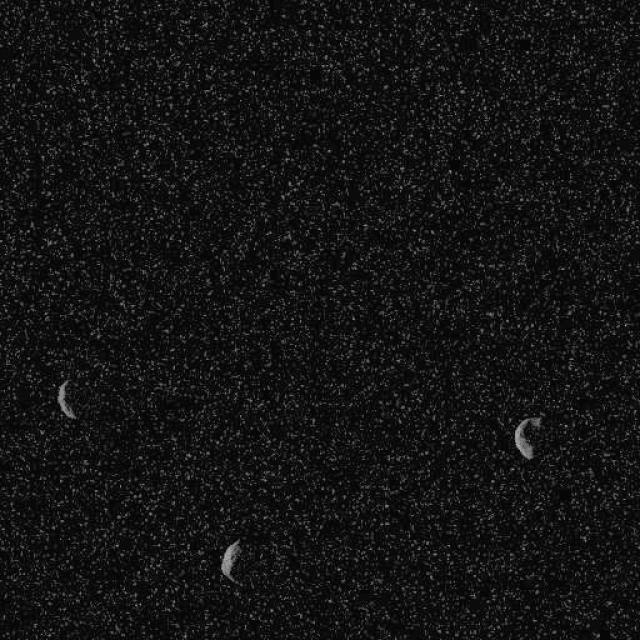D2: (512, 415, 544, 460), (218, 536, 244, 586), (55, 378, 77, 420)
